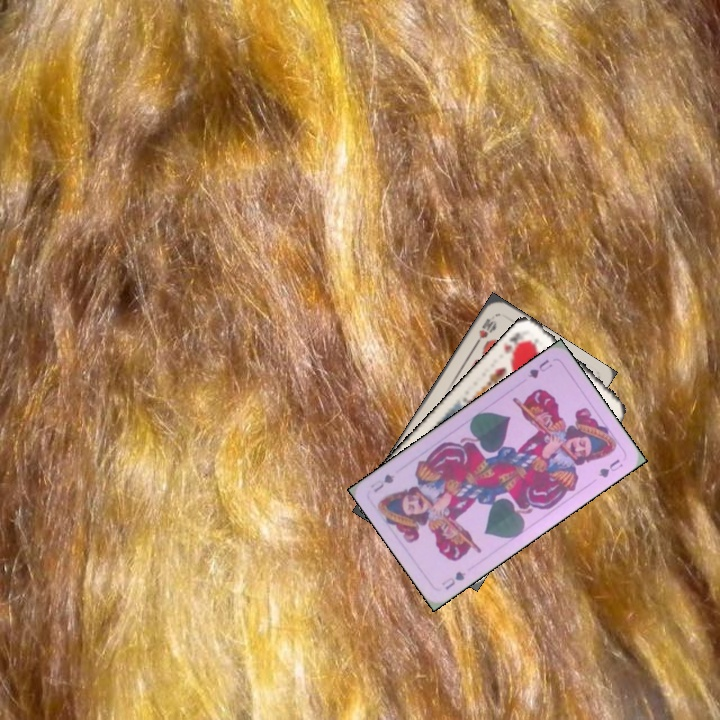GU: (524, 355, 555, 381), (437, 567, 468, 592)
H10: (471, 314, 499, 348)
HK: (499, 327, 530, 362)
